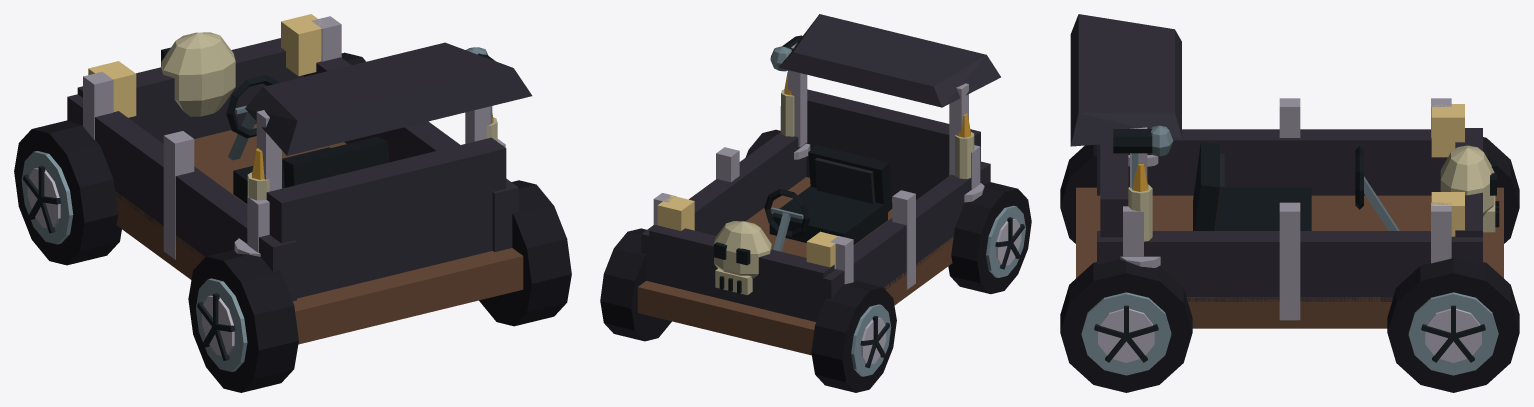
The model's file is kart.glb.
3 views of the same model, side by side, from view 1: azimuth 30°, elevation 25°; view 2: azimuth 150°, elevation 25°; view 3: azimuth 270°, elevation 25° (orthographic). The views are drawn at different scales.
Parts seen in each view (by area): view 1: identity-carriage-carriage-timber-coach, wheel-rear-left, wheel-front-left, wheel-rear-right, identity-carriage-driver-cockpit, identity-carriage-motif-skull, identity-carriage-motif-candles; view 2: identity-carriage-carriage-timber-coach, identity-carriage-driver-cockpit, wheel-front-left, wheel-rear-left, wheel-front-right, identity-carriage-motif-skull, identity-carriage-motif-candles, identity-carriage-motif-microphone; view 3: identity-carriage-carriage-timber-coach, wheel-front-right, wheel-rear-right, identity-carriage-driver-cockpit, identity-carriage-motif-skull, wheel-rear-left, identity-carriage-motif-microphone, identity-carriage-motif-candles, wheel-front-left.
Part boxes in pixels (box(x1,y1,x2,y2)): identity-carriage-carriage-timber-coach: box(67, 14, 532, 344); wheel-rear-left: box(188, 249, 298, 392); wheel-front-left: box(14, 120, 121, 265); wheel-rear-right: box(479, 180, 571, 326); identity-carriage-driver-cockpit: box(226, 75, 388, 203); identity-carriage-motif-skull: box(161, 32, 235, 116); identity-carriage-motif-candles: box(234, 113, 497, 256); identity-carriage-carriage-timber-coach: box(637, 14, 1000, 355); identity-carriage-driver-cockpit: box(764, 145, 892, 251); wheel-front-left: box(811, 281, 896, 392); wheel-rear-left: box(948, 182, 1031, 294); wheel-front-right: box(600, 228, 671, 341); identity-carriage-motif-skull: box(714, 221, 771, 295); identity-carriage-motif-candles: box(781, 71, 984, 202); identity-carriage-motif-microphone: box(770, 35, 802, 71); identity-carriage-carriage-timber-coach: box(1070, 14, 1503, 328); wheel-front-right: box(1387, 257, 1519, 392); wheel-rear-right: box(1060, 259, 1192, 392); identity-carriage-driver-cockpit: box(1193, 142, 1399, 230); identity-carriage-motif-skull: box(1440, 145, 1499, 232); wheel-rear-left: box(1060, 144, 1096, 243); identity-carriage-motif-microphone: box(1113, 125, 1173, 189); identity-carriage-motif-candles: box(1120, 155, 1160, 267); wheel-front-left: box(1483, 137, 1519, 243).
Bounding box in the file's own units: 2.07 × 1.63 × 2.64.
